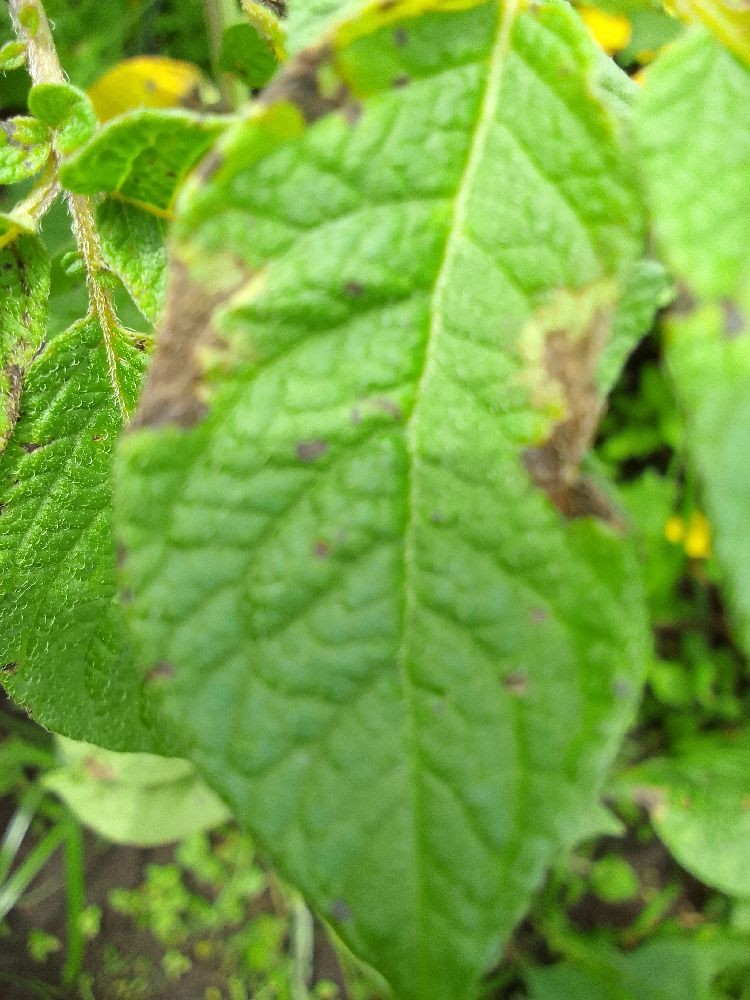late_blight: (0, 791, 328, 1000), (546, 776, 737, 970), (112, 237, 271, 448), (507, 295, 638, 545)
